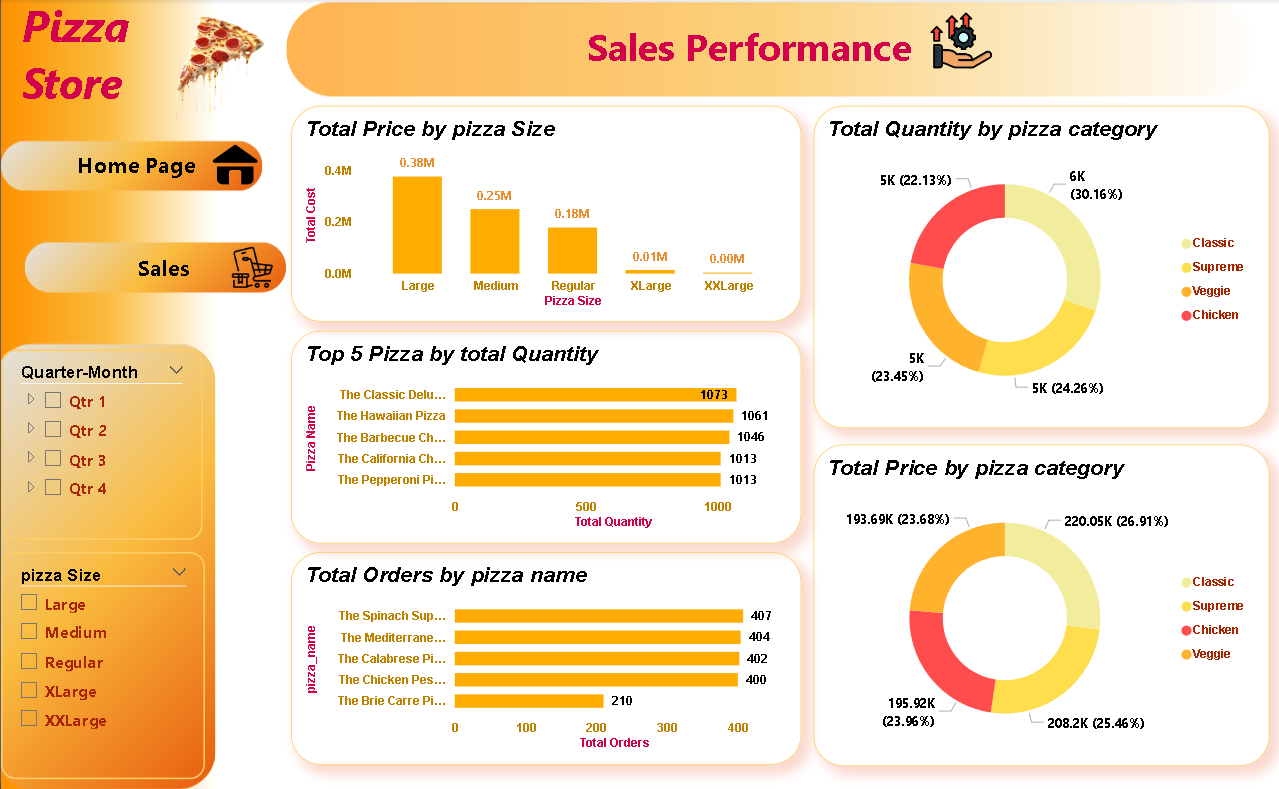

The page's visual inventory and layout, read from the dashboard file:
{"tool":"powerbi","page":{"name":"Peformance","canvas":[1280,800],"ordinal":1},"visuals":[{"type":"donutChart","title":"Total Quantity by pizza category","fields":{"Y":["Measures (2).Total Orders"],"Category":["Table1.pizza_category"]},"box":[812.5,113.8,456.2,322.5],"z":0},{"type":"columnChart","title":"Total Price by pizza Size","fields":{"Category":["Table1.pizza_Size"],"Y":["Measures (2).Total Revenue"]},"box":[290,113.8,510,216.2],"z":1000},{"type":"pieChart","title":"Total Price by pizza category","fields":{"Category":["Table1.pizza_category"],"Y":["Measures (2).Total Revenue"]},"box":[812.5,452.5,456.2,321.2],"z":2000},{"type":"group","id":"g1","title":"Group 1","box":[567.9,24,361.4,78.6],"z":3000},{"type":"image","box":[917.1,11.4,85.7,74.3],"z":4000},{"type":"textbox","box":[567.9,24,361.4,78.6],"z":4000,"group":"g1"},{"type":"barChart","title":"Top 5 Pizza by total Quantity","fields":{"Category":["Table1.pizza_name"],"Y":["Measures (2).Total Orders"]},"box":[290,338.8,510,212.5],"z":5000},{"type":"barChart","title":"Total Orders by pizza name","fields":{"Category":["Table1.pizza_name"],"Y":["Measures (2).Total Orders"]},"box":[290,560,510,212.5],"z":6000},{"type":"textbox","box":[16.2,0,177.5,123.8],"z":7000},{"type":"image","box":[224.3,244.3,55.7,62.9],"z":7000,"group":"g3"},{"type":"actionButton","box":[74.3,244.3,178.6,61.4],"z":8000,"group":"g3"},{"type":"slicer","fields":{"Values":["Table1.pizza_Size"]},"box":[0,560,204.3,227.1],"z":8000},{"type":"image","box":[204.3,145.7,58.6,52.9],"z":9000,"group":"g2"},{"type":"slicer","fields":{"Values":["Table1.order_date.Variation.Date Hierarchy.Quarter","Table1.order_date.Variation.Date Hierarchy.Month","Table1.order_date.Variation.Date Hierarchy.Day"]},"box":[0,357.1,201.4,190],"z":9000},{"type":"group","id":"g2","title":"Group 2","box":[45.7,145.7,217.1,52.9],"z":10000},{"type":"actionButton","box":[45.7,145.7,178.6,50],"z":10000,"group":"g2"},{"type":"group","id":"g3","title":"Group 3","box":[74.3,244.3,205.7,62.9],"z":11000},{"type":"image","box":[137.5,0,146.2,145],"z":12000}]}

Visuals, with their boxes in screenshot pixels (x1, y1, x2, y2), scaled from the page's 1280x800 canvas onto the 1279x789 screenshot:
"Total Quantity by pizza category" donutChart: bbox(812, 112, 1268, 430)
"Total Price by pizza Size" columnChart: bbox(290, 112, 799, 325)
"Total Price by pizza category" pieChart: bbox(812, 446, 1268, 763)
"Group 1" group: bbox(567, 24, 929, 101)
image: bbox(916, 11, 1002, 85)
textbox: bbox(567, 24, 929, 101)
"Top 5 Pizza by total Quantity" barChart: bbox(290, 334, 799, 544)
"Total Orders by pizza name" barChart: bbox(290, 552, 799, 762)
textbox: bbox(16, 0, 194, 122)
image: bbox(224, 241, 280, 303)
actionButton: bbox(74, 241, 253, 301)
slicer - Table1.pizza_Size: bbox(0, 552, 204, 776)
image: bbox(204, 144, 263, 196)
slicer - Table1.order_date.Variation.Date Hierarchy.Quarter x Table1.order_date.Variation.Date Hierarchy.Month: bbox(0, 352, 201, 540)
"Group 2" group: bbox(46, 144, 263, 196)
actionButton: bbox(46, 144, 224, 193)
"Group 3" group: bbox(74, 241, 280, 303)
image: bbox(137, 0, 283, 143)
